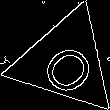O_NE: (31, 29, 100, 95)
